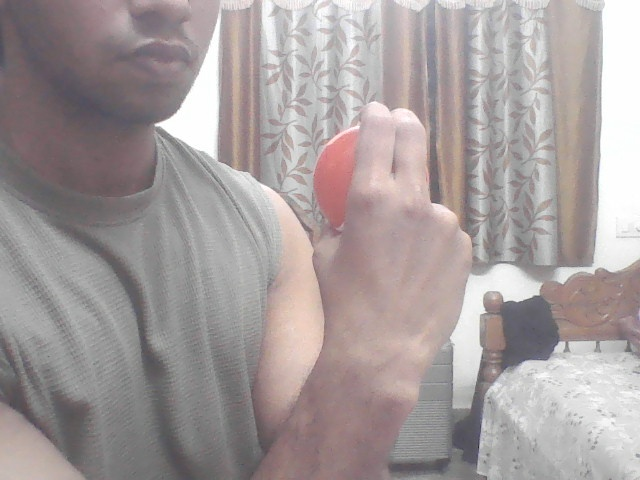cricket_ball: (308, 123, 361, 234)
